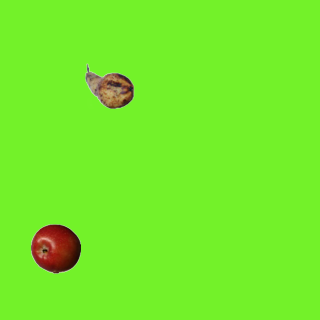Apple Braeburn: (30, 223, 80, 273)
Pear Abate: (84, 61, 134, 111)
